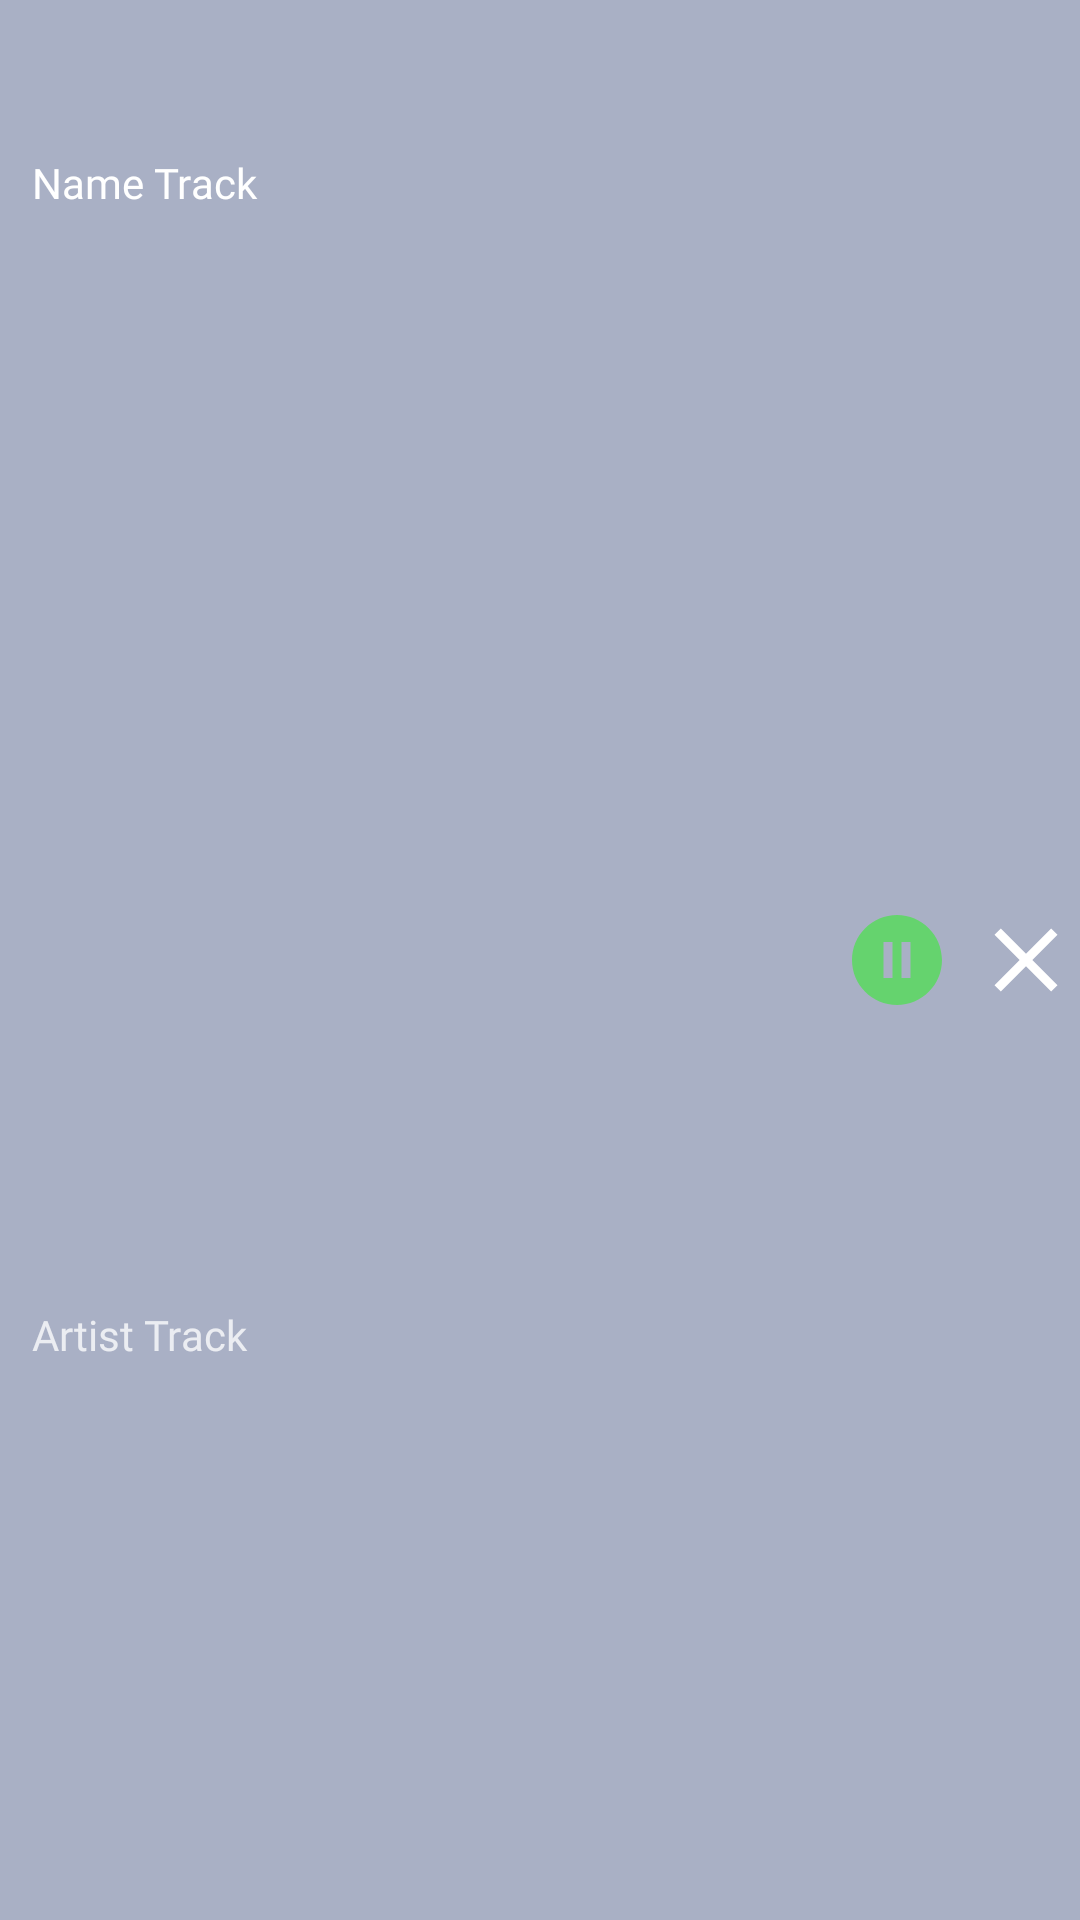

Screen size 1080*1920. Icon name, then its box in pixels as (x1, y1, x2, y2):
close: (995, 929, 1057, 991)
